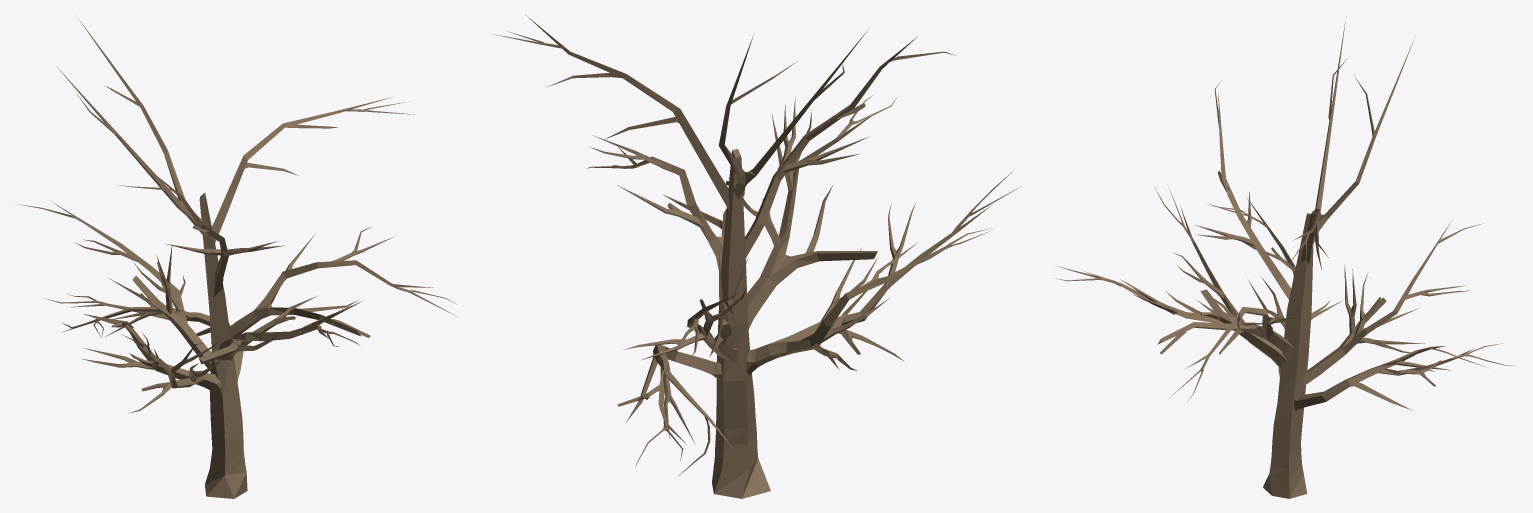
File: tree_bare_a_13.FBX
3 renders of one model, left to right at view 1: azimuth 30°, elevation 25°; view 2: azimuth 150°, elevation 25°; view 3: azimuth 270°, elevation 25°, orthographic. The views are drawn at different scales.
Visible parts, largest first — view 1: tree_bare_a_13; view 2: tree_bare_a_13; view 3: tree_bare_a_13.
Boxes of the visible parts, box(x1,y1,x2,y2) form: tree_bare_a_13: box(19, 17, 457, 498); tree_bare_a_13: box(492, 15, 1021, 498); tree_bare_a_13: box(1055, 16, 1515, 498).
Bounding box in the file's own units: 5.68 × 6.57 × 6.63.
